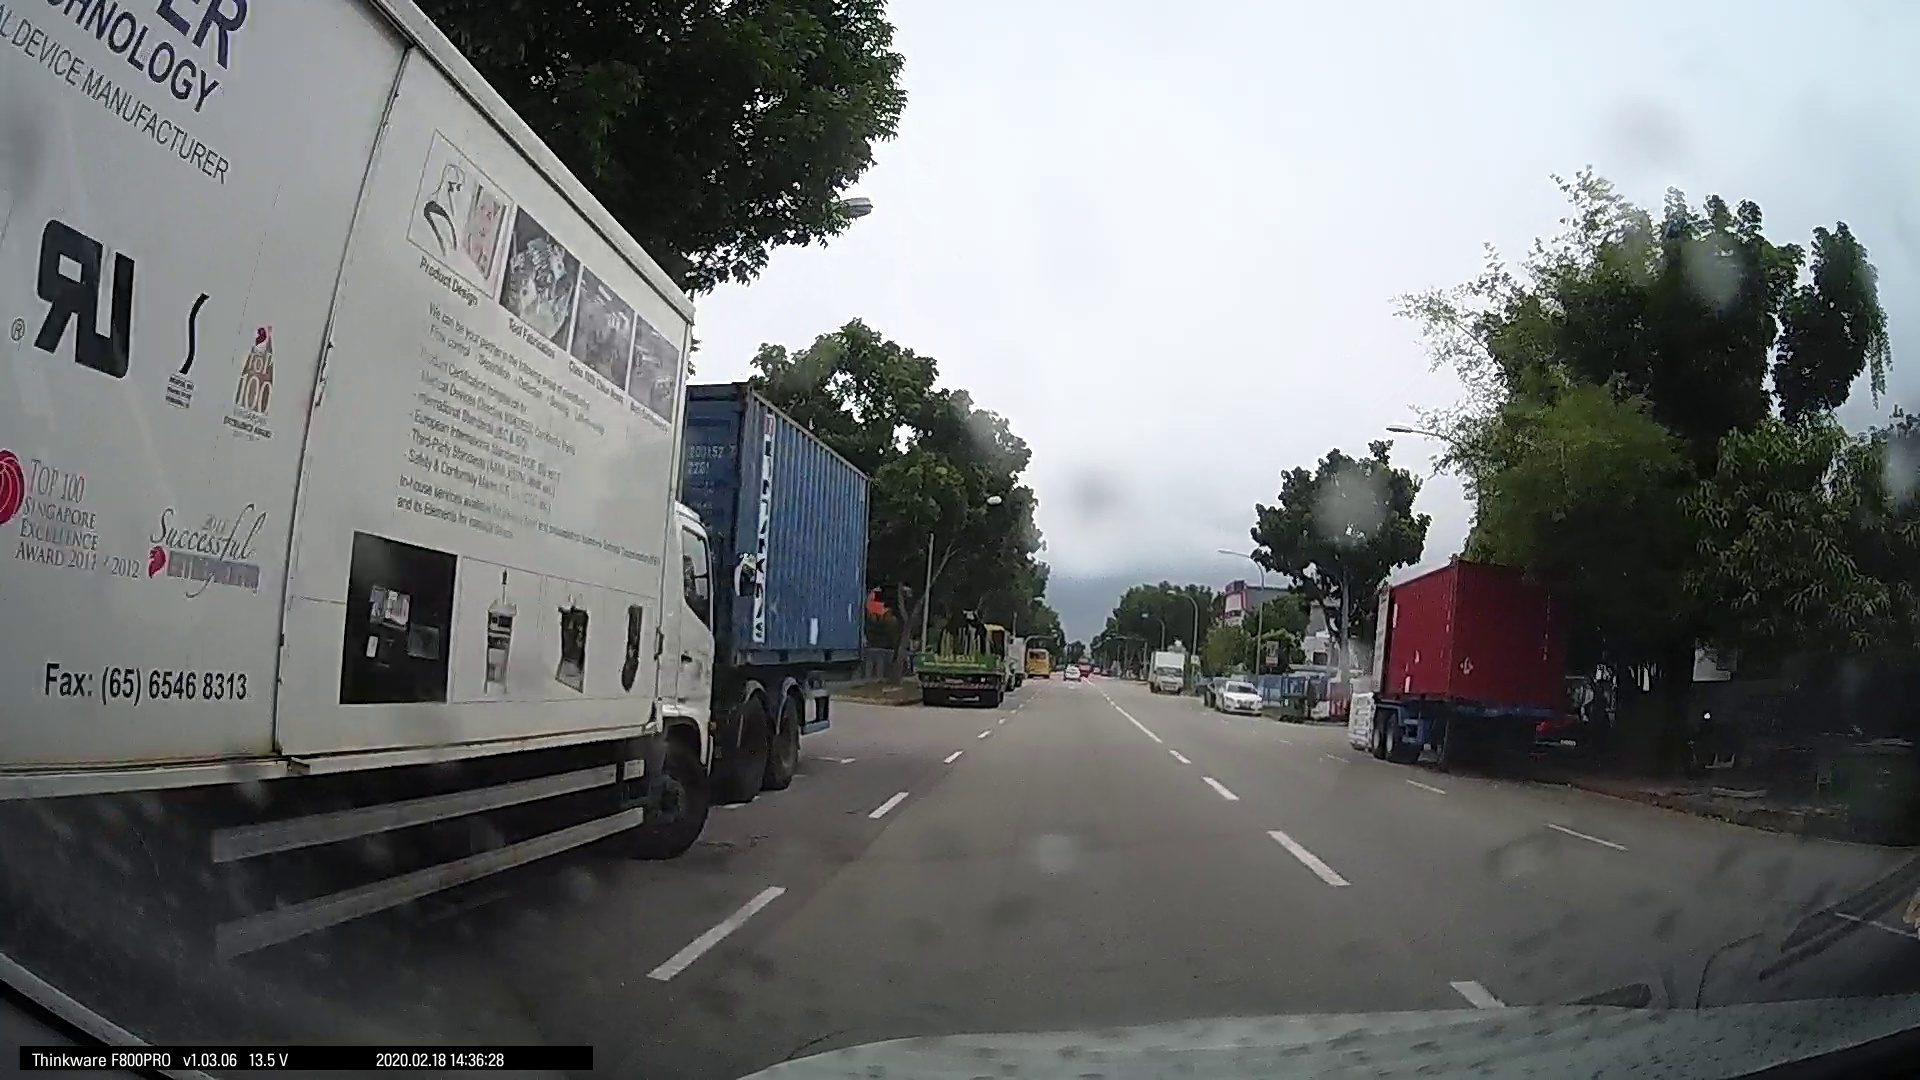Heavy Vehicle: (1, 1, 733, 1043), (645, 361, 872, 791), (1357, 554, 1586, 771)
Light Vehicle: (1204, 670, 1262, 715), (1145, 649, 1185, 694)
